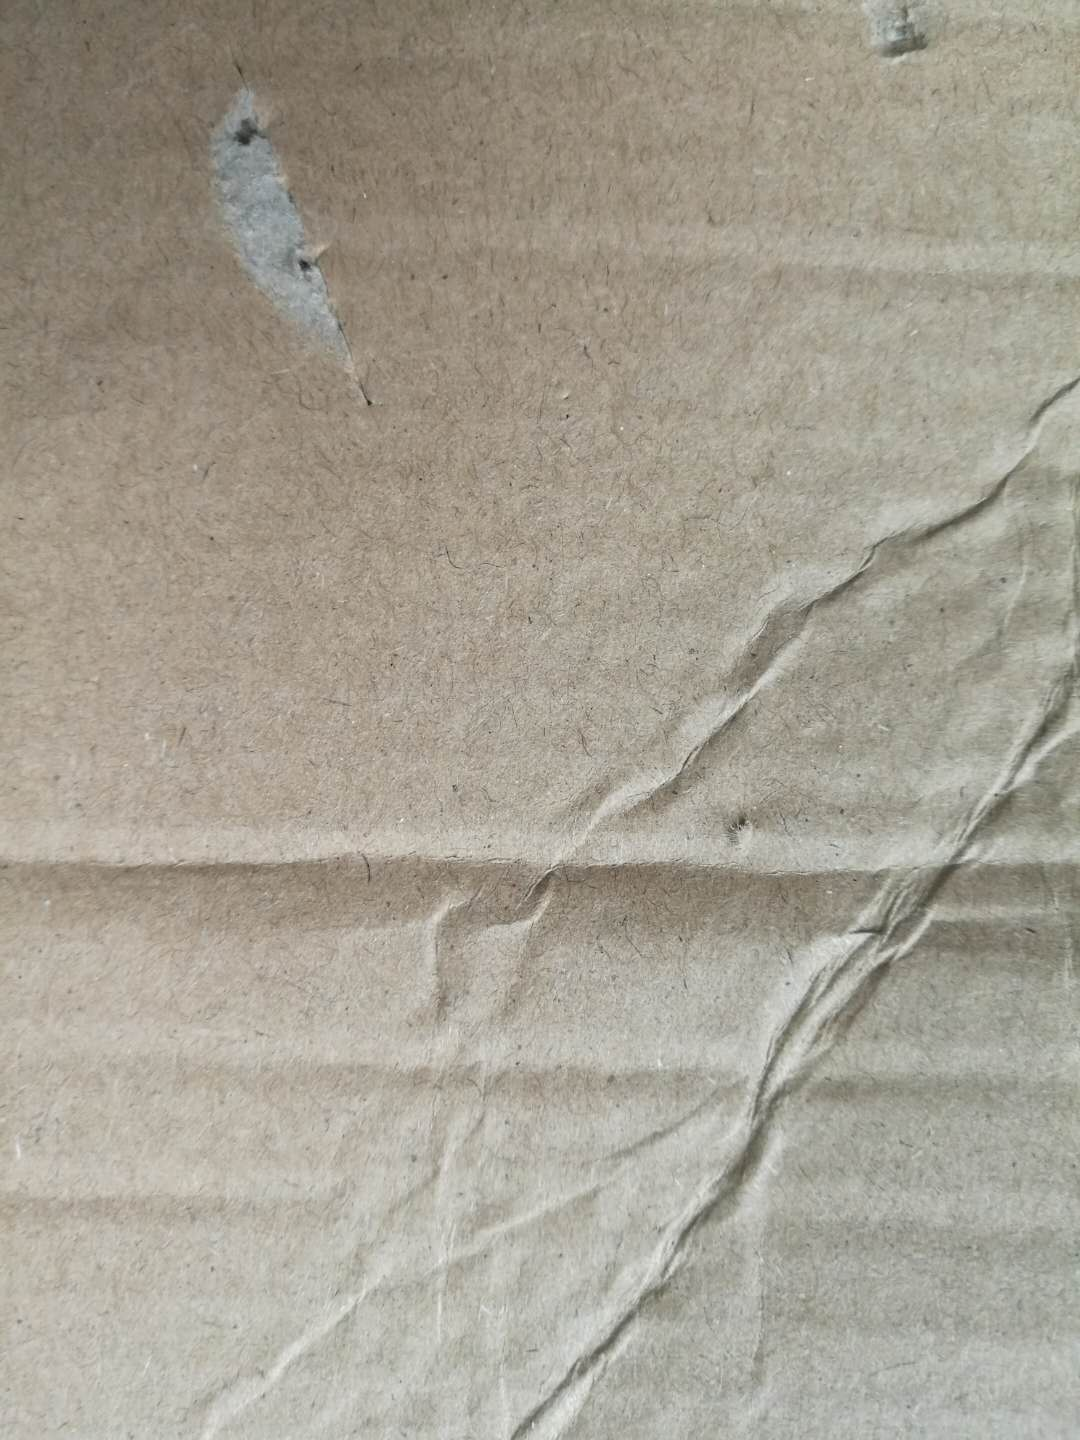defect: (157, 319, 1075, 1440), (5, 772, 1080, 1018), (164, 44, 399, 433), (835, 2, 962, 73)
